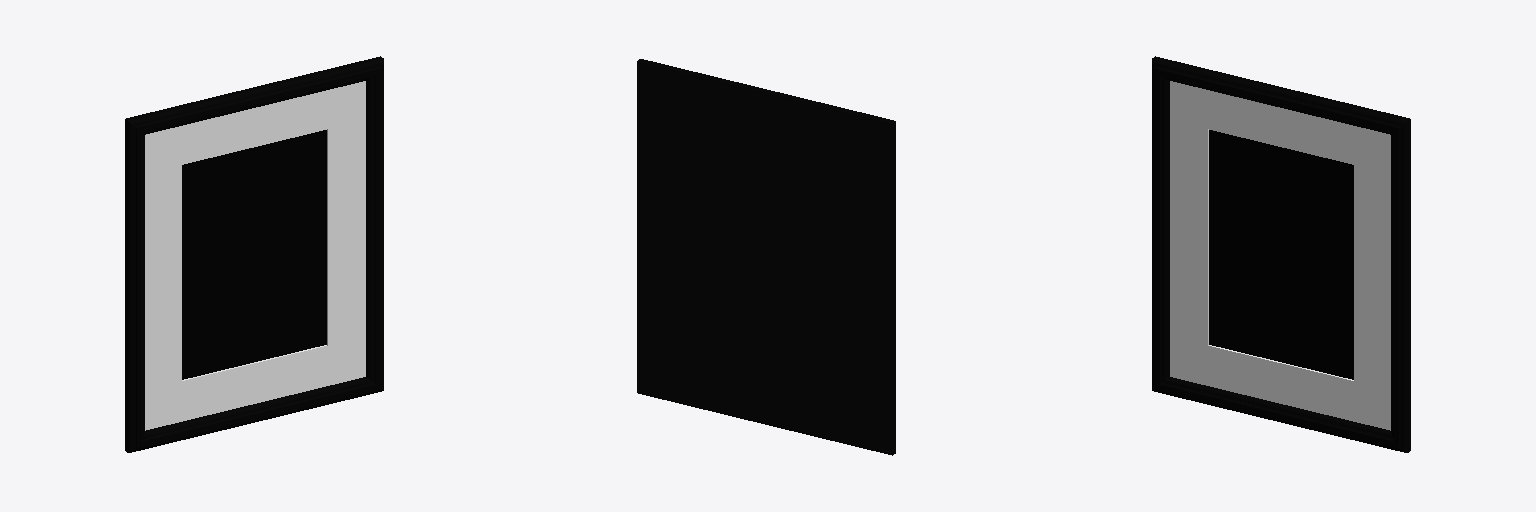
The model's file is frame.obj.
The picture shows the model from 3 angles: view 1: azimuth 30°, elevation 25°; view 2: azimuth 150°, elevation 25°; view 3: azimuth 330°, elevation 25°; orthographic projection.
Visible parts, largest first — view 1: Object_4_Object_2, Object_5_Object_3, Object_3_Object_1; view 2: Object_2_Object_0, Object_3_Object_1; view 3: Object_4_Object_2, Object_5_Object_3, Object_3_Object_1.
Boxes of the visible parts, <box> form: Object_4_Object_2: <box>145,81,365,430</box>; Object_5_Object_3: <box>182,130,326,379</box>; Object_3_Object_1: <box>125,56,383,452</box>; Object_2_Object_0: <box>637,61,892,455</box>; Object_3_Object_1: <box>638,59,895,454</box>; Object_4_Object_2: <box>1170,81,1390,430</box>; Object_5_Object_3: <box>1209,130,1353,379</box>; Object_3_Object_1: <box>1152,56,1410,452</box>.
Size of the model in its own units: 1.92 by 2.38 by 0.0853.